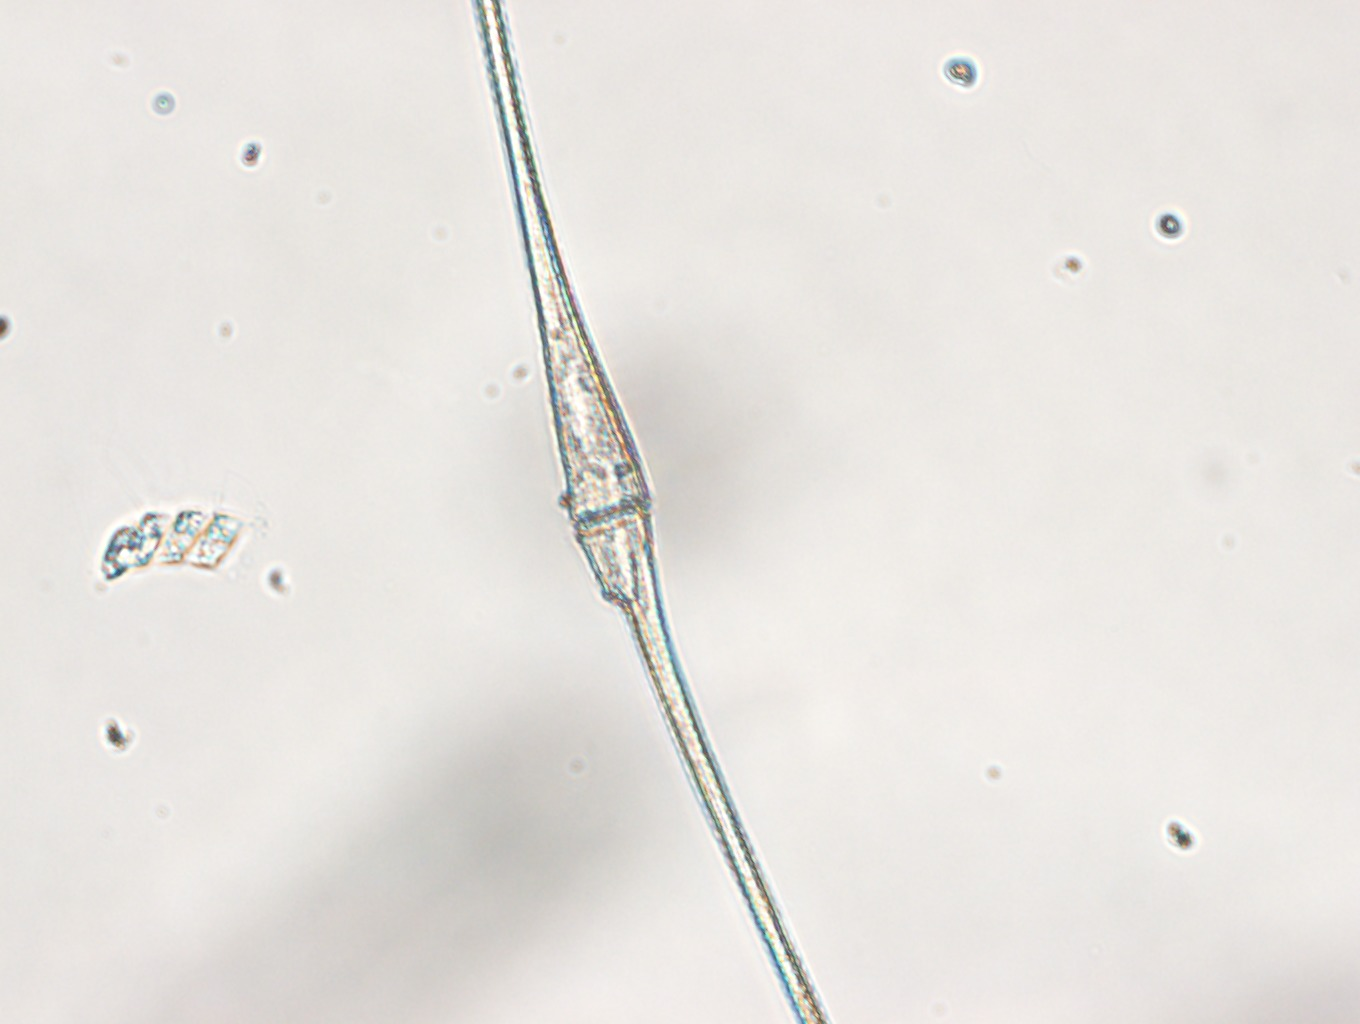ceratium fusus: (470, 1, 825, 1024)
